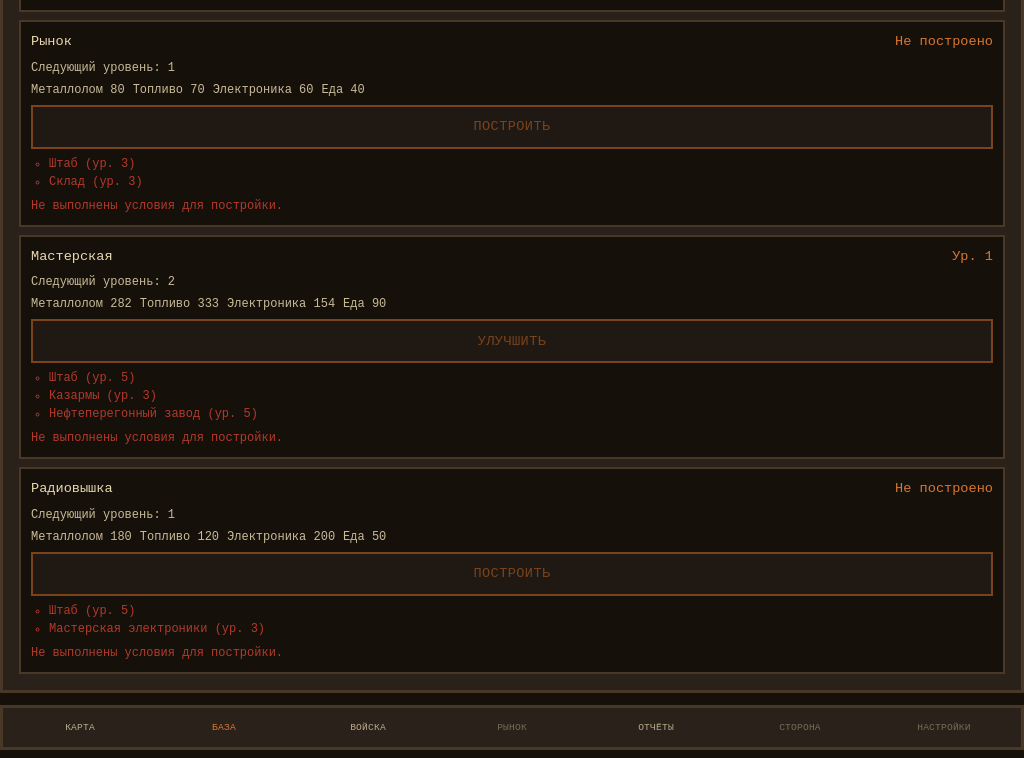
Test: UnitsScreen — army overview (§3) › renders all three groups with per-group Food costs derived from game-core, including a non-empty stationed contingent
(page scrolled)
Click the button "Войска": (368,727) [297, 714, 439, 741]
(page scrolled)
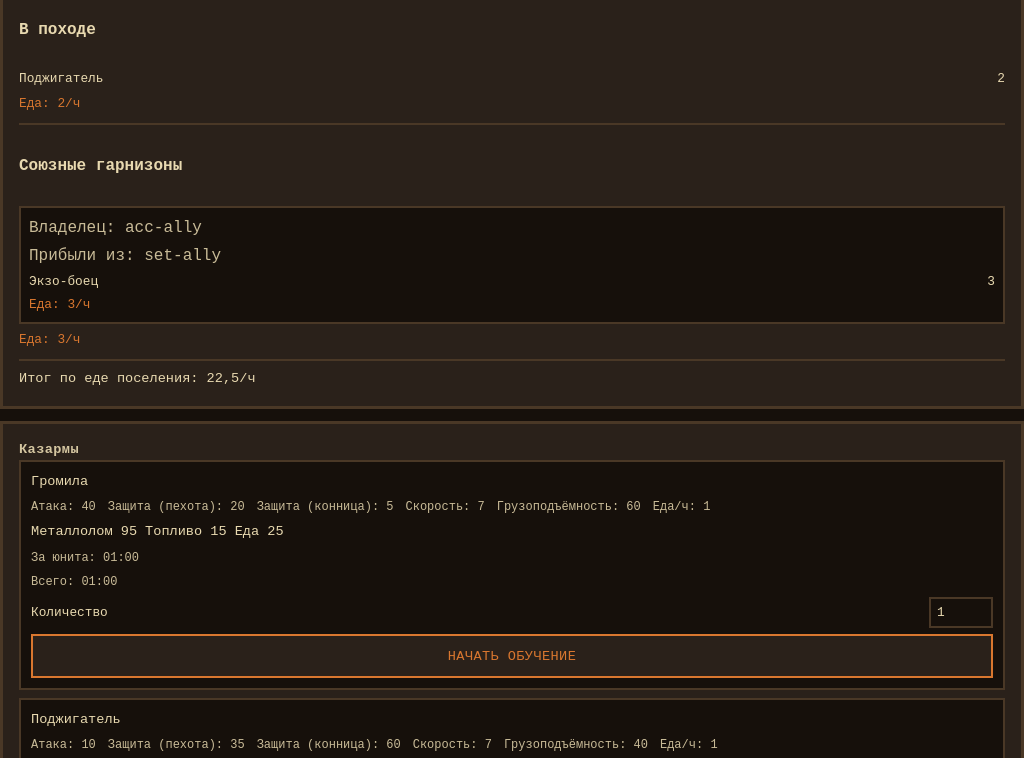
Check: the text "Поджигатель" below "В походе" is shown, box [19, 71, 104, 86]
Check: the text "Экзо-боец" is shown, box [29, 272, 98, 291]
Check: the text "Владелец: acc-ally" is shown, box [29, 219, 202, 237]
